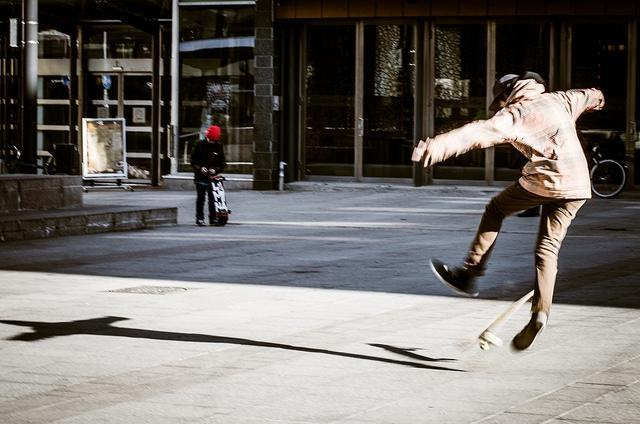bicycle: (5, 142, 76, 176), (590, 145, 624, 201)
